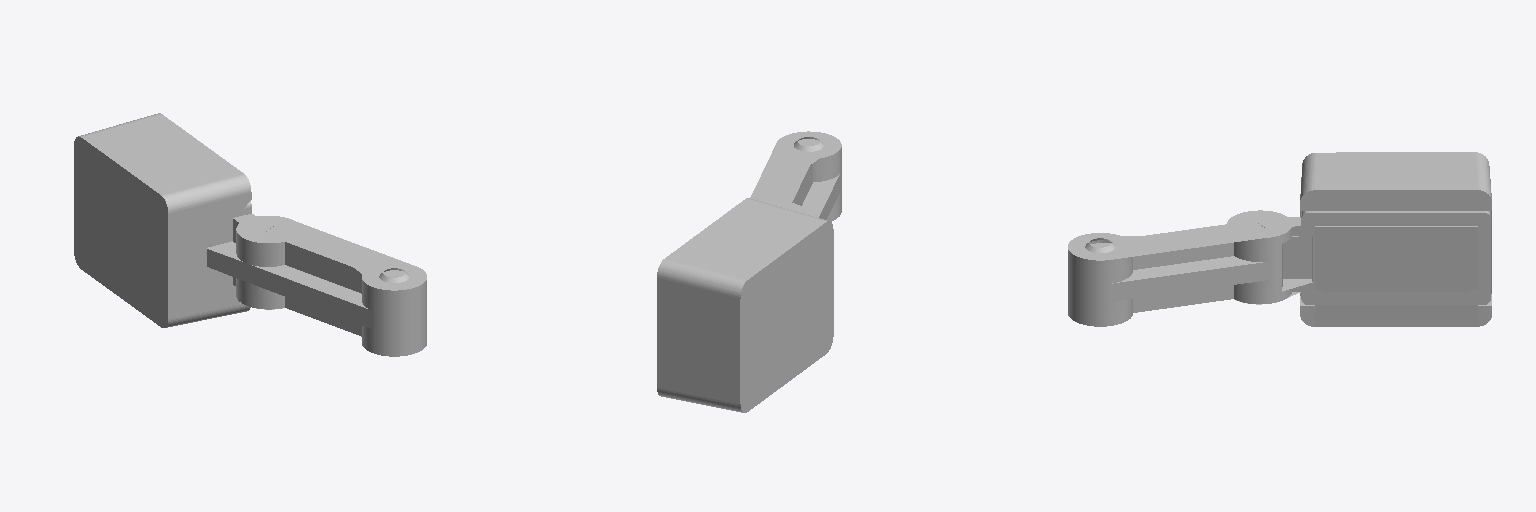
File: gripper_right_paddle.obj
The picture shows the model from 3 angles: view 1: azimuth 30°, elevation 25°; view 2: azimuth 150°, elevation 25°; view 3: azimuth 270°, elevation 25°; orthographic projection.
Parts seen in each view (by area): view 1: Mesh1 Gripper_right_paddle1 Model; view 2: Mesh1 Gripper_right_paddle1 Model; view 3: Mesh1 Gripper_right_paddle1 Model.
Boxes of the visible parts, x1,y1,x2,y2 form: Mesh1 Gripper_right_paddle1 Model: [74, 113, 426, 356]; Mesh1 Gripper_right_paddle1 Model: [657, 131, 841, 412]; Mesh1 Gripper_right_paddle1 Model: [1068, 152, 1491, 326].
Size of the model in its own units: 0.0249 by 0.021 by 0.0592.